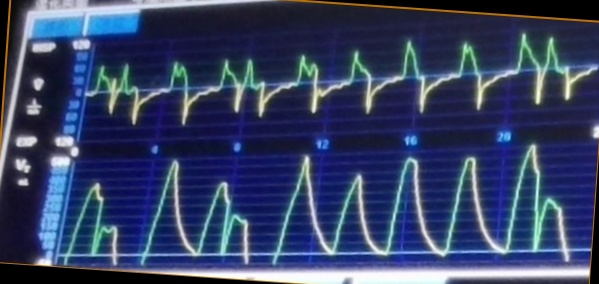Double_Triggering Flow: (94, 34, 589, 127)
Double_Triggering Volume: (78, 145, 580, 267)
